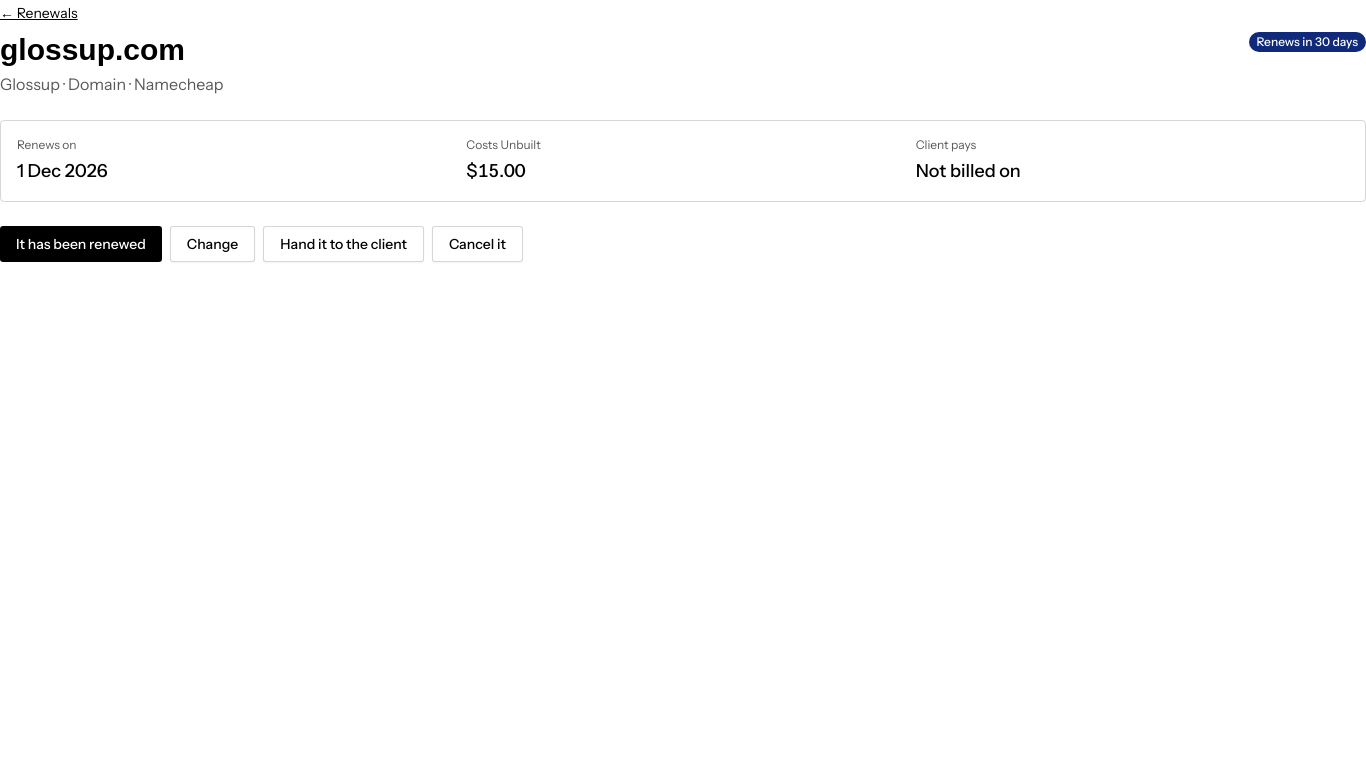
Scenario: one renewal › will not offer to draft an invoice with no price to invoice
Click the button "Change" at (213, 244), box [170,226,255,262]
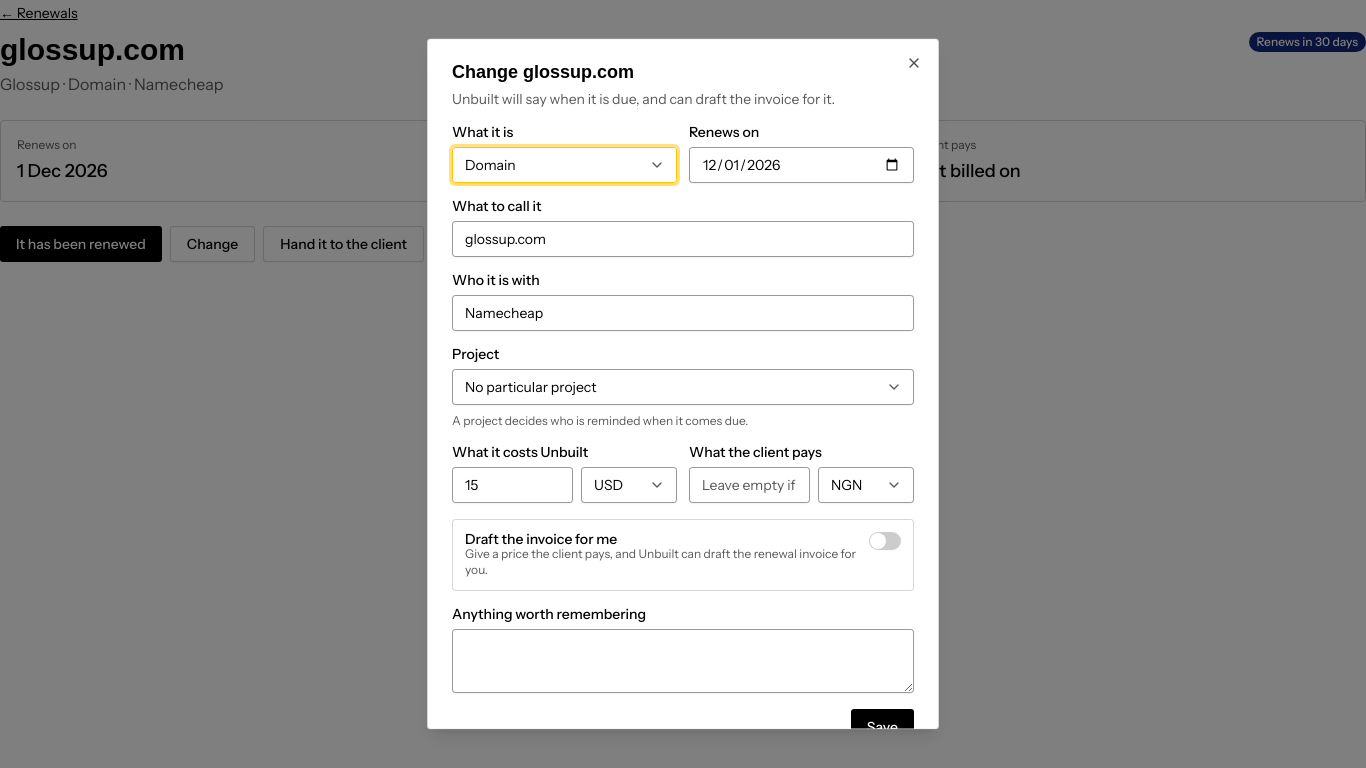
expect the switch named "Draft the invoice for me" is disabled: met, box [869,532,901,551]
expect the text "Give a price the client pays" is shown: met, box [465,546,856,577]
